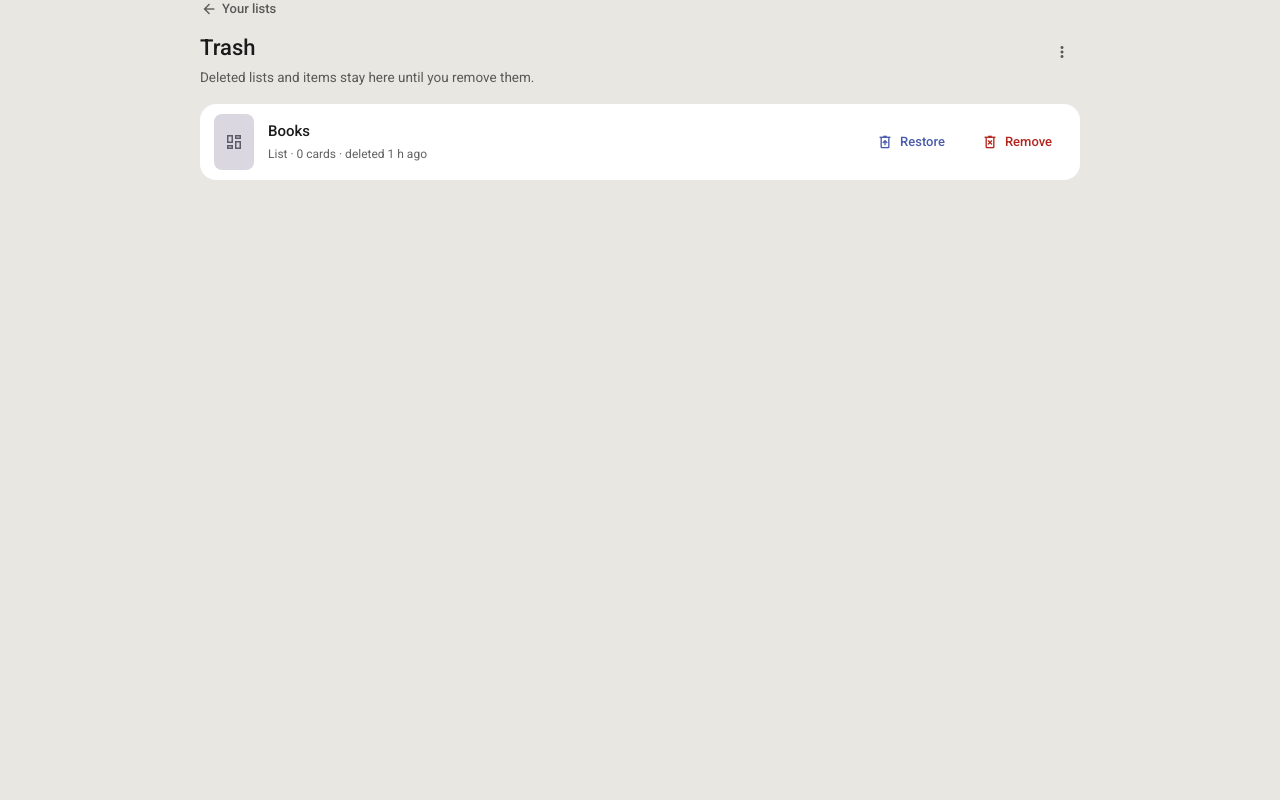
TrashPage › says nothing once every list in the trash came down
Click the heading named "More options".
click(1062, 52)  # box [1052, 40, 1072, 64]
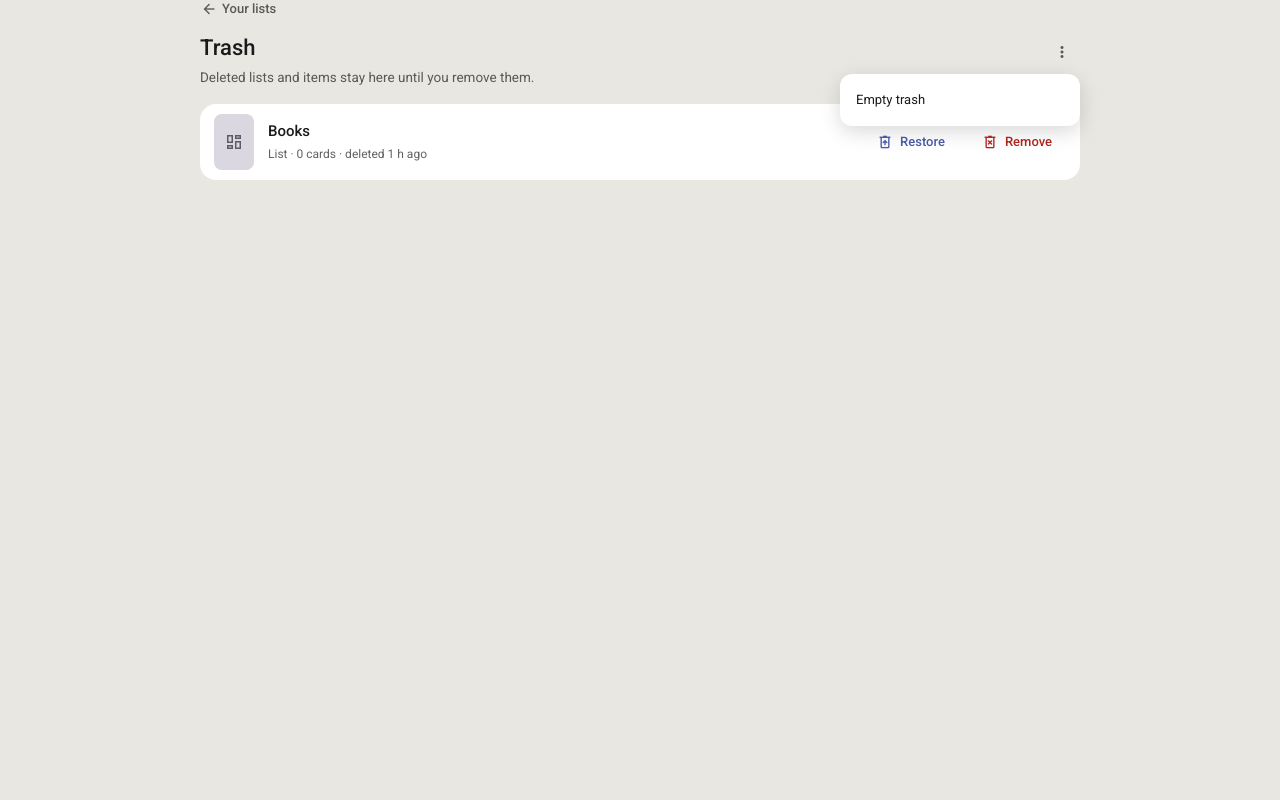
Click the button "Empty trash".
click(960, 100)  # box [840, 80, 1080, 120]
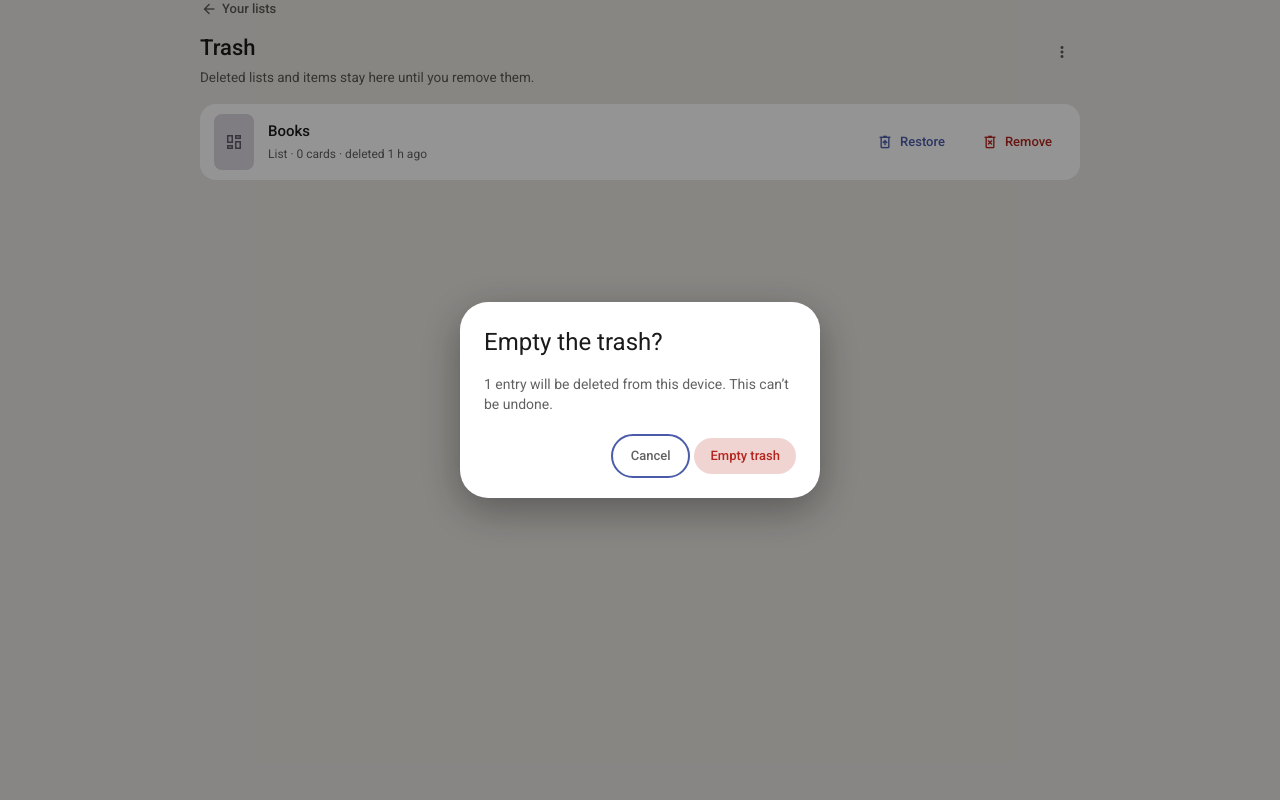
Click the button "Empty trash".
click(745, 456)  # box [694, 438, 796, 474]
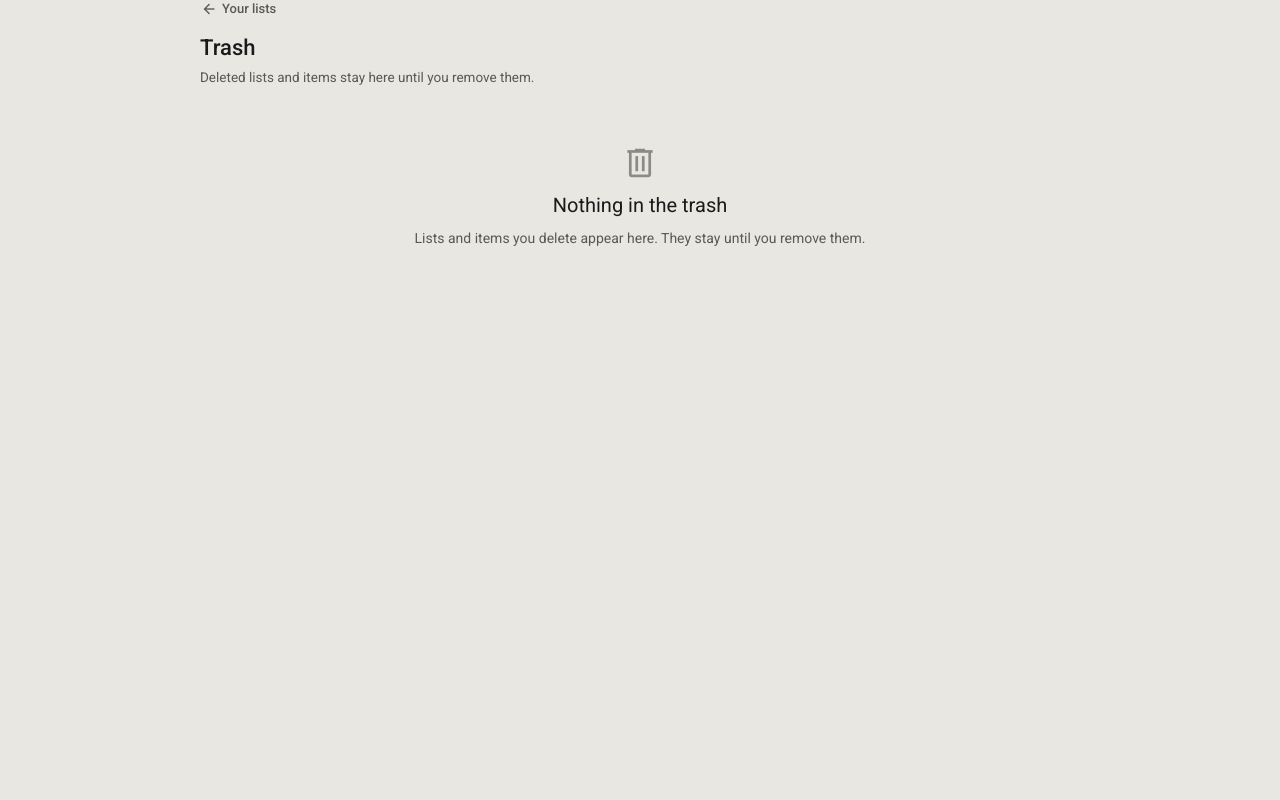
Expected: the text "Nothing in the trash" is shown, [553, 192, 727, 218]
